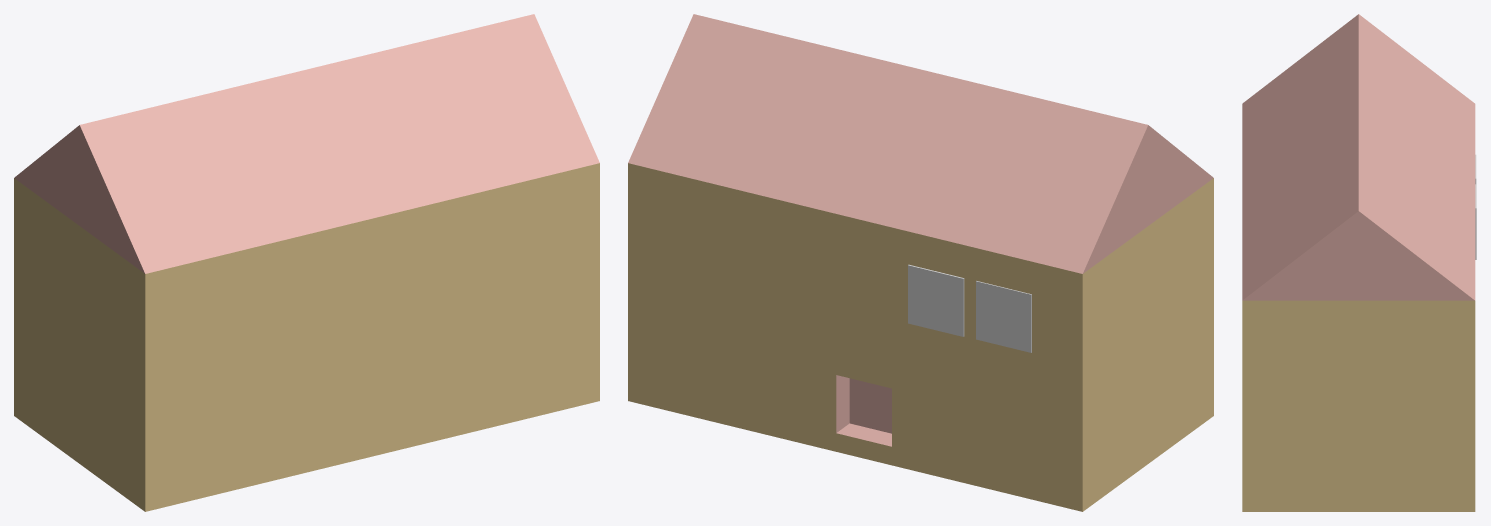
The model's file is house.glb.
3 views of the same model, side by side, from view 1: azimuth 30°, elevation 25°; view 2: azimuth 150°, elevation 25°; view 3: azimuth 270°, elevation 25° (orthographic). The views are drawn at different scales.
Parts seen in each view (by area): view 1: Cube; view 2: Cube, Cube.003, Cube.002; view 3: Cube.
Part boxes in pixels (box(x1,y1,x2,y2)): Cube: box(14, 14, 599, 511); Cube: box(628, 14, 1213, 511); Cube.003: box(908, 264, 964, 336); Cube.002: box(976, 281, 1031, 352); Cube: box(1242, 14, 1475, 511).
Size of the model in its own units: 4 by 2.85 by 2.01.
